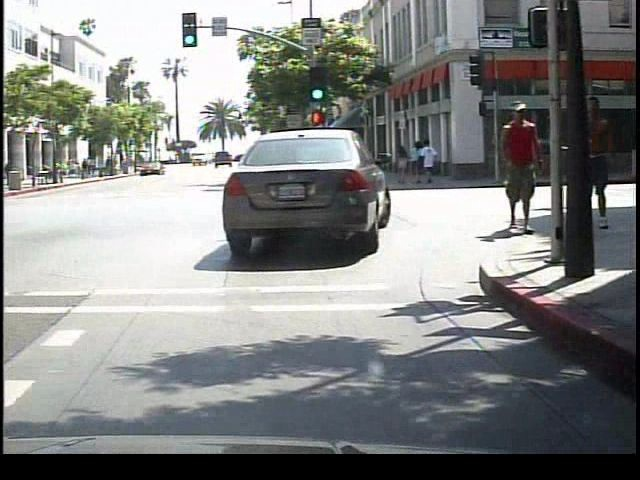person: (491, 95, 546, 241), (567, 96, 615, 237)
